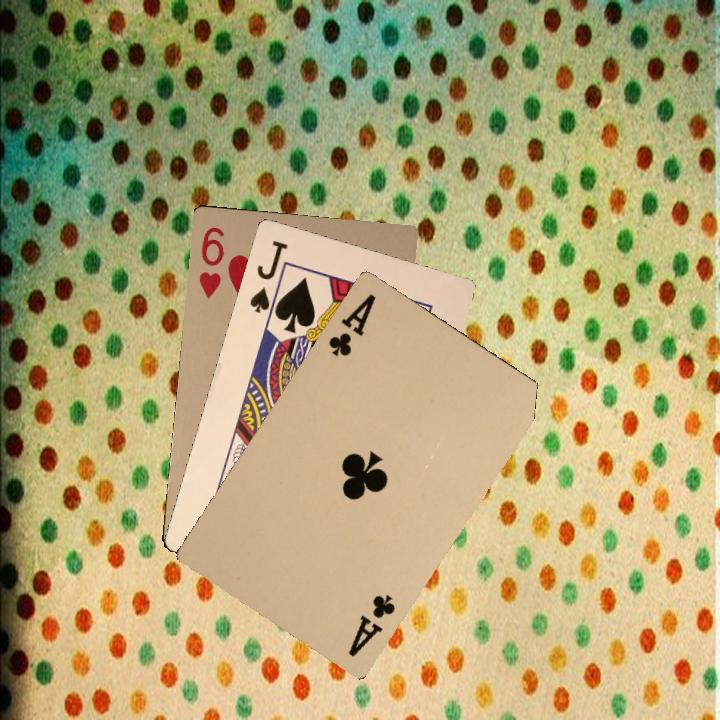6h: (194, 222, 227, 299)
Ac: (324, 290, 379, 359), (344, 590, 398, 660)
Js: (245, 236, 292, 317)
